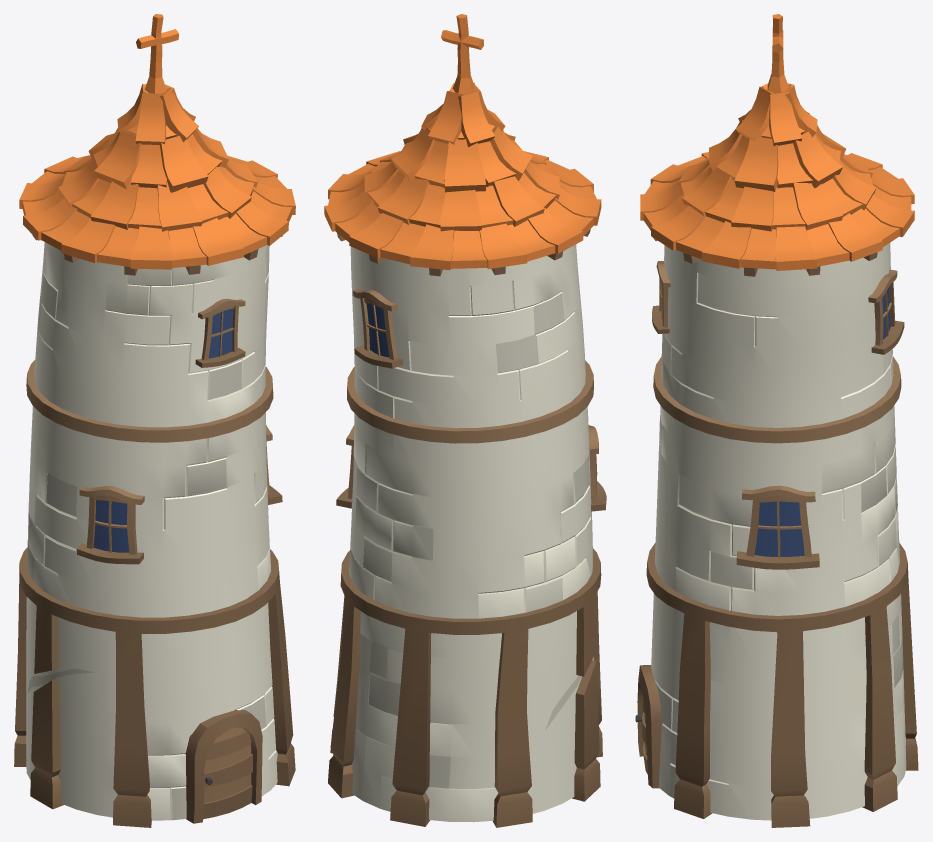
The model's file is SummerField_Tower.fbx.
3 views of the same model, side by side, from view 1: azimuth 30°, elevation 25°; view 2: azimuth 150°, elevation 25°; view 3: azimuth 270°, elevation 25° (orthographic).
Visible parts, largest first — view 1: SummerField_Tower; view 2: SummerField_Tower; view 3: SummerField_Tower.
Boxes of the visible parts, x1,y1,x2,y2 form: SummerField_Tower: (14,14,295,827); SummerField_Tower: (324,14,606,827); SummerField_Tower: (635,14,918,827).
Bounding box in the file's own units: 218 × 642 × 218.
